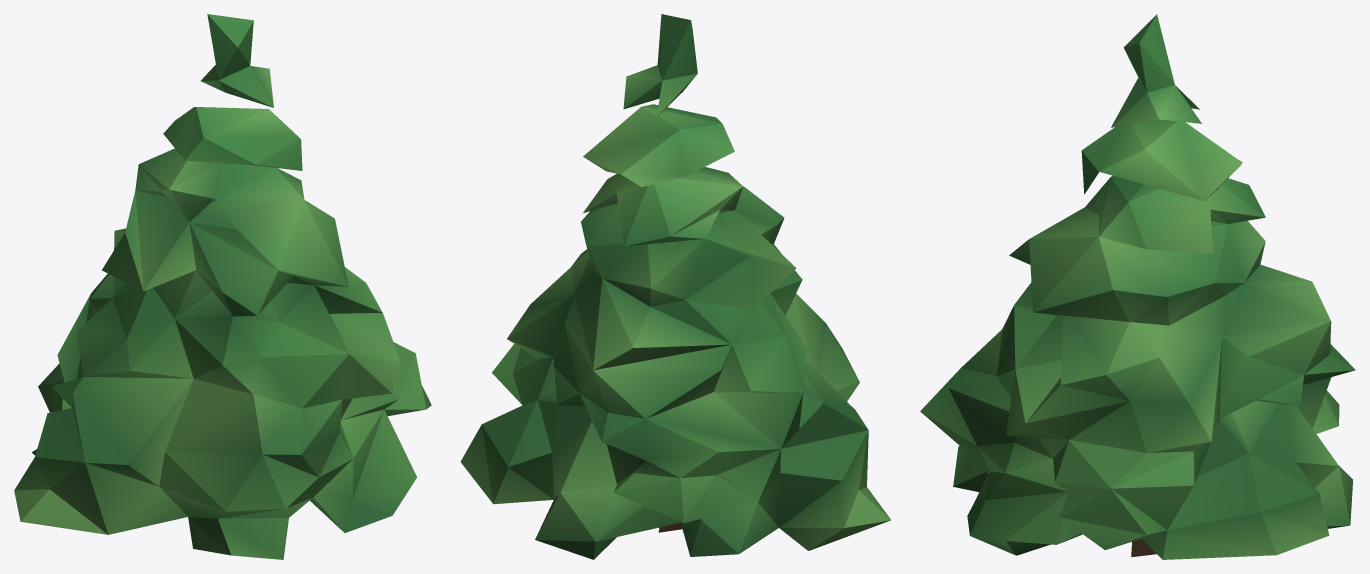
File: pine_mature_tall_straight_dense_far.glb
The picture shows the model from 3 angles, left to right: view 1: azimuth 30°, elevation 25°; view 2: azimuth 150°, elevation 25°; view 3: azimuth 270°, elevation 25°; orthographic projection. The views are drawn at different scales.
Visible parts, largest first — view 1: pine_mature_tall_straight_dense_LOD3; view 2: pine_mature_tall_straight_dense_LOD3; view 3: pine_mature_tall_straight_dense_LOD3.
Part boxes in pixels (bbox=[...]): pine_mature_tall_straight_dense_LOD3: bbox=[14, 14, 431, 559]; pine_mature_tall_straight_dense_LOD3: bbox=[460, 14, 890, 559]; pine_mature_tall_straight_dense_LOD3: bbox=[920, 14, 1355, 559].
Size of the model in its own units: 6.07 by 7.45 by 5.58.
